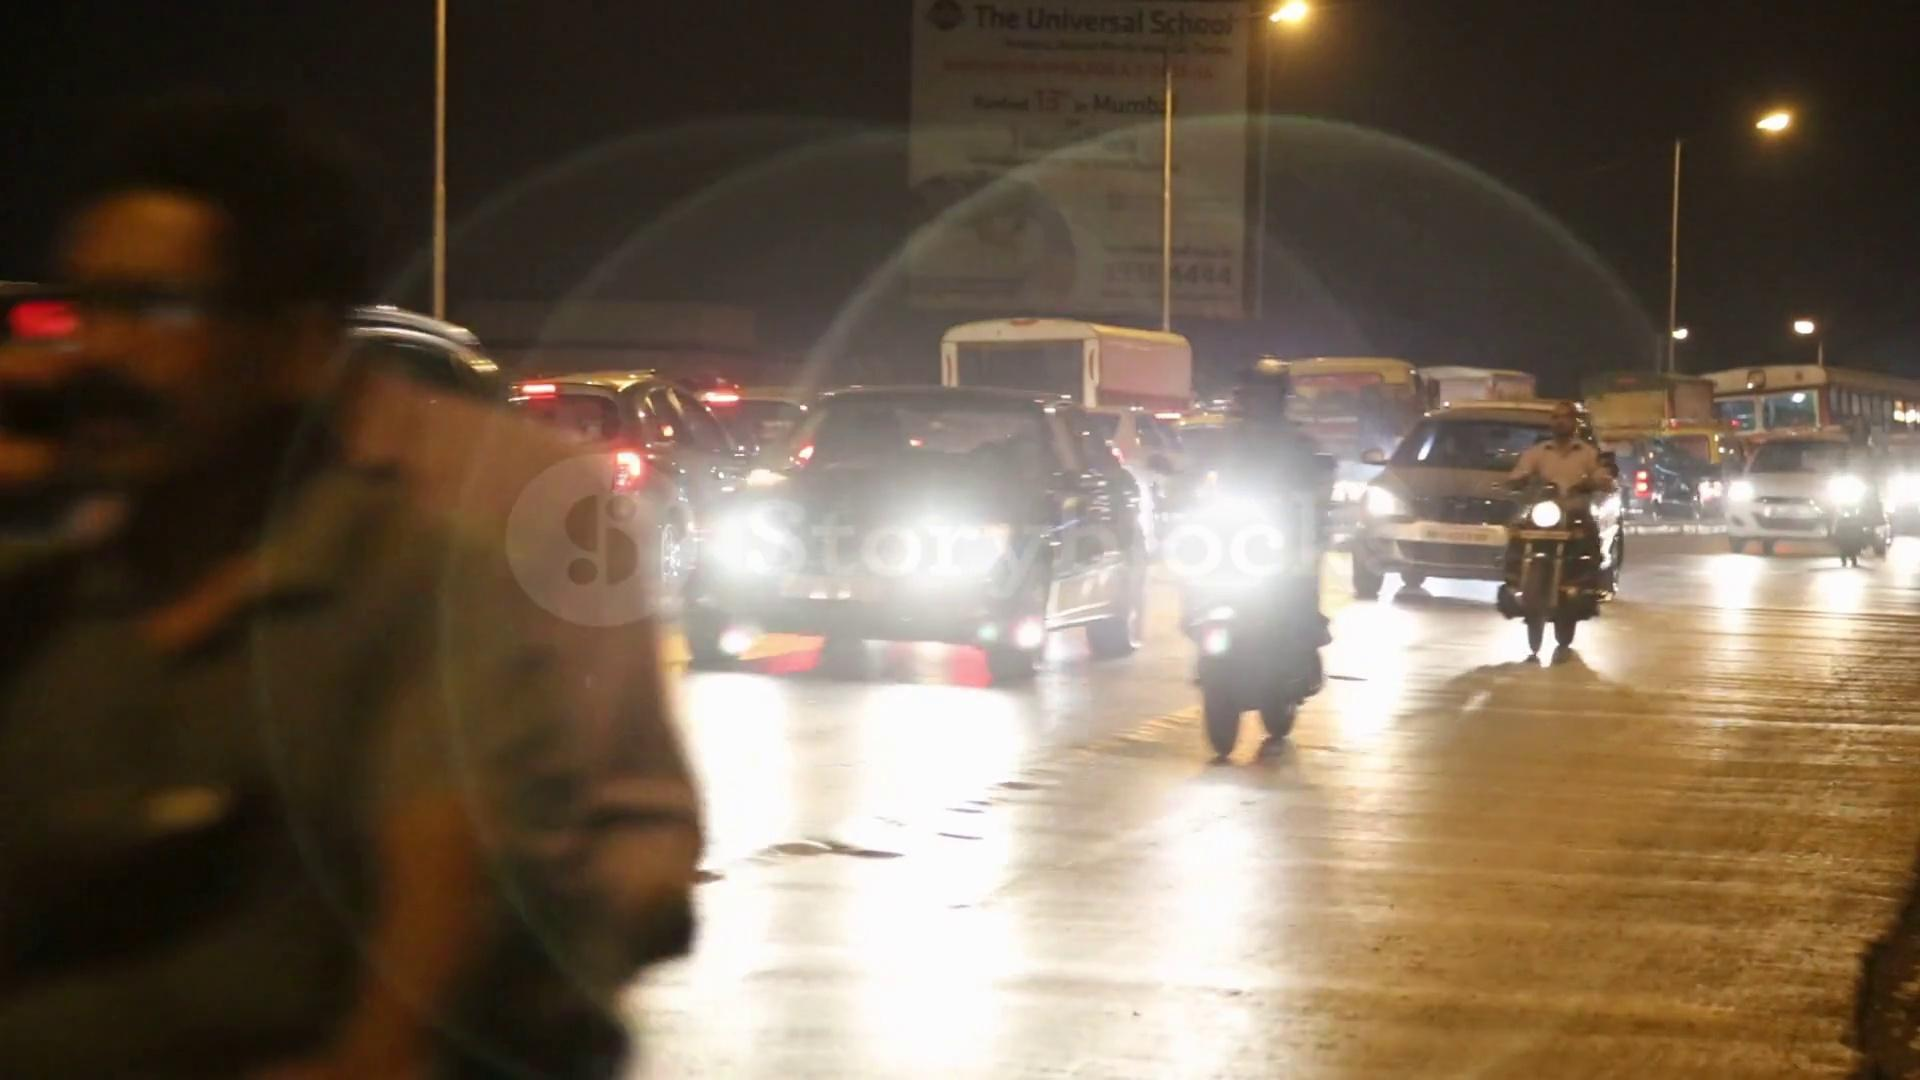rider: (1166, 354, 1338, 762), (1493, 399, 1615, 656), (1829, 417, 1883, 570), (1636, 416, 1700, 536)
with_helmate: (1233, 357, 1304, 413)
without_helmate: (1541, 403, 1589, 446)
